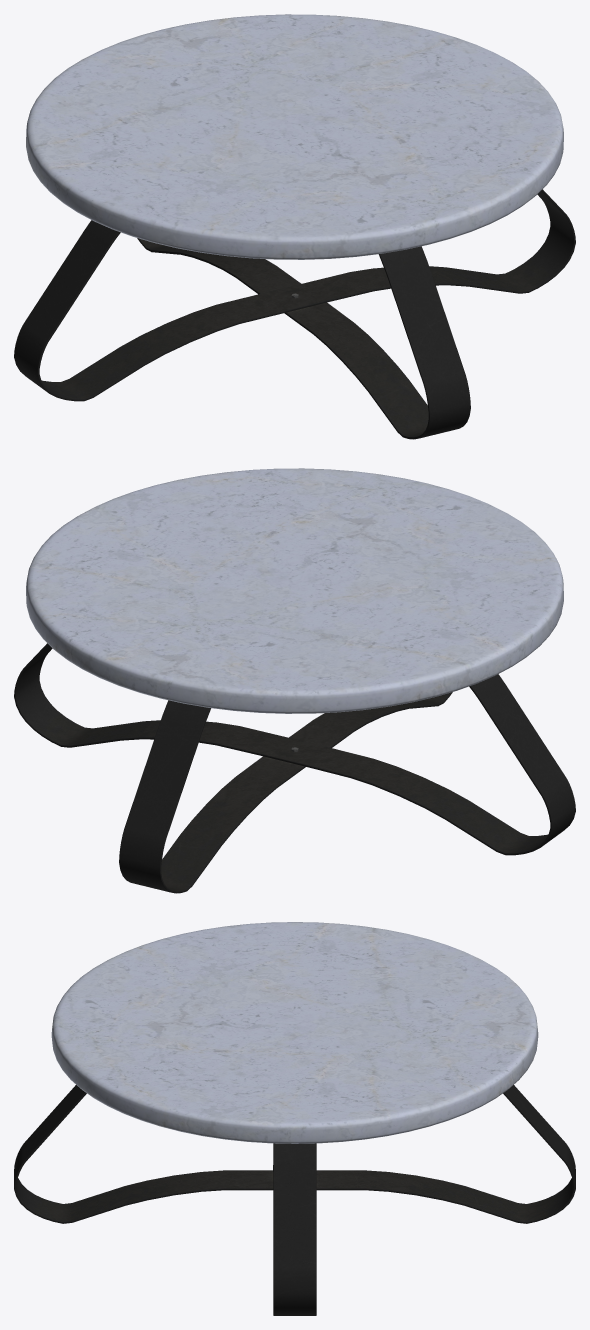
Rendered from coffee_table_round_01_1k.gltf.
3 views of the same model, one above another, from view 1: azimuth 30°, elevation 25°; view 2: azimuth 150°, elevation 25°; view 3: azimuth 270°, elevation 25° (orthographic). The views are drawn at different scales.
Parts seen in each view (by area): view 1: coffee_table_round_01; view 2: coffee_table_round_01; view 3: coffee_table_round_01.
Part boxes in pixels (<box>): coffee_table_round_01: <box>14,14,575,439</box>; coffee_table_round_01: <box>14,468,575,893</box>; coffee_table_round_01: <box>14,922,575,1315</box>.
Bounding box in the file's own units: 1.3 × 0.4911 × 1.3.
Materials: 1 (1 with a texture image).
